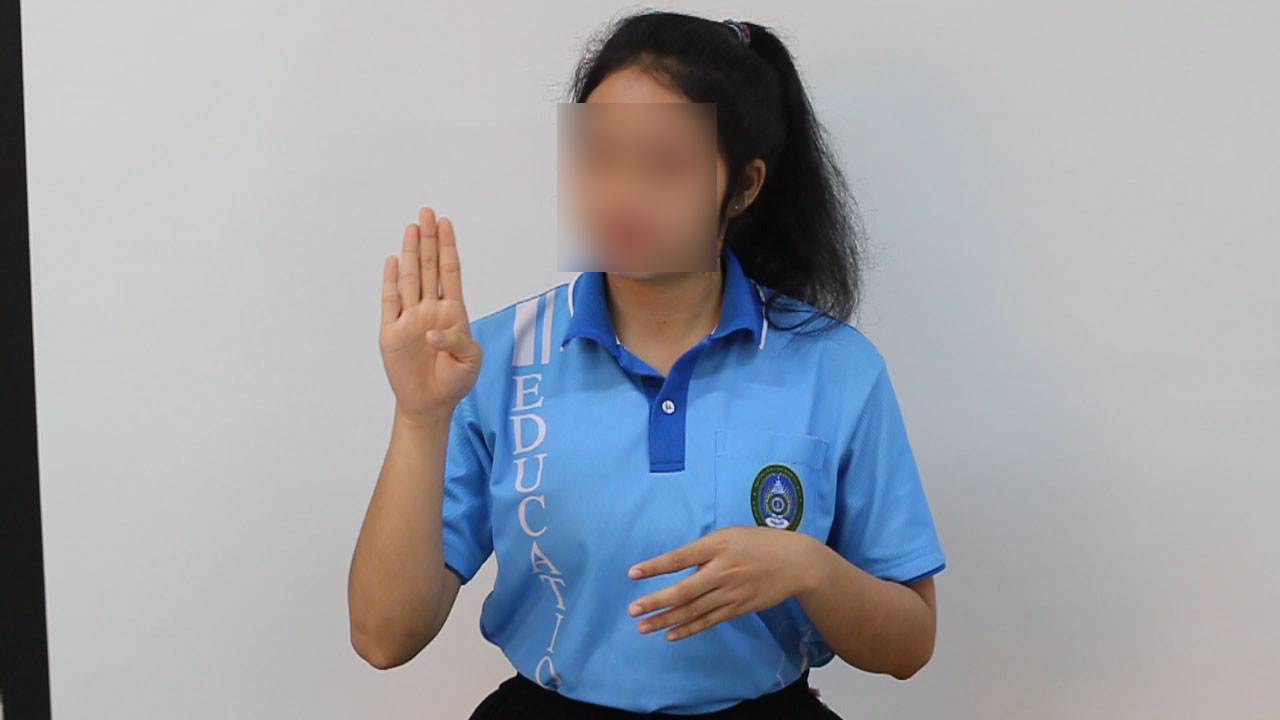bor: (354, 192, 503, 445)
